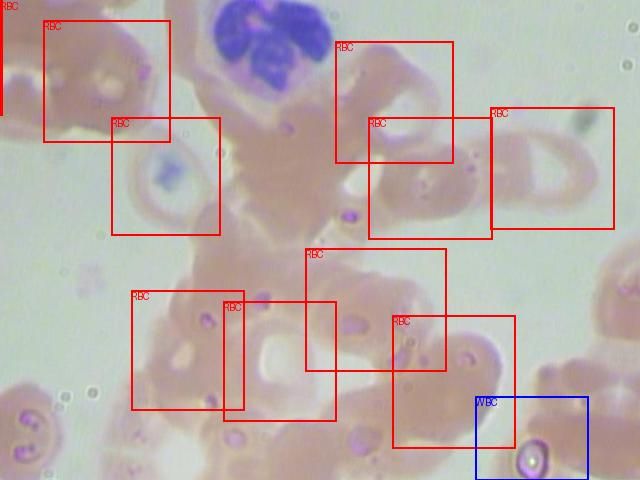RBC: (305, 248, 446, 371), (392, 315, 515, 448), (43, 20, 170, 142), (490, 107, 614, 229), (368, 117, 492, 239), (335, 41, 453, 163), (223, 301, 336, 421), (131, 290, 244, 410), (111, 117, 220, 235), (0, 0, 2, 115)
WBC: (475, 396, 588, 480)
